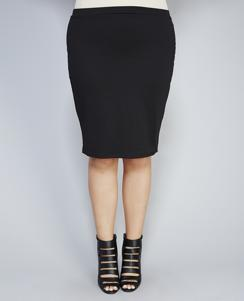F_tailored skirt: (63, 2, 180, 163)
